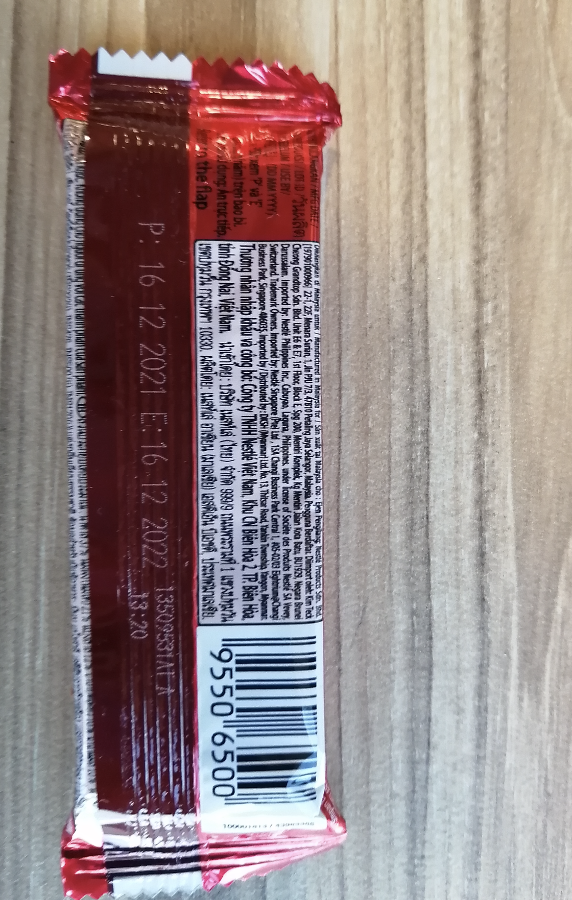Kitkat: (77, 135, 317, 824)
